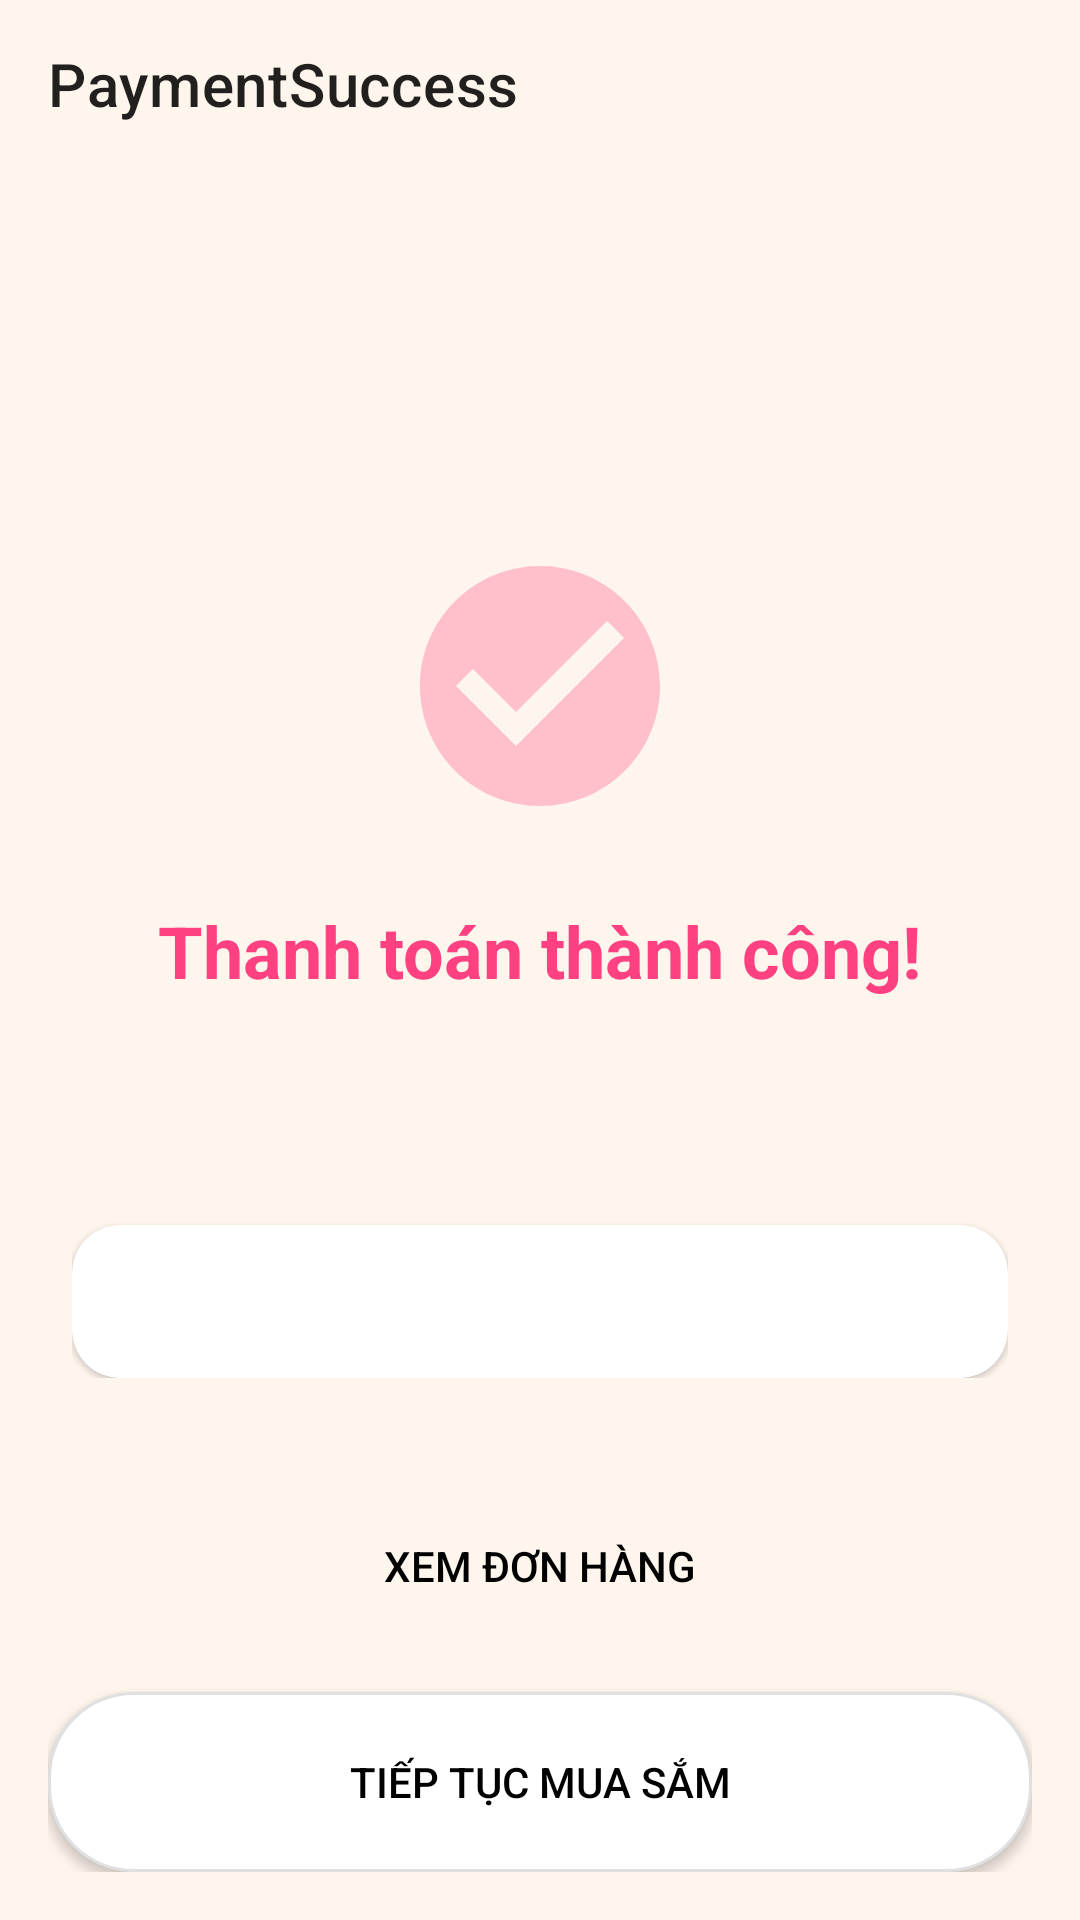

Locate icon controls on the screen. Image size 1080*1920, boxes as (x1, y1, x2, y2).
checkmark circle: (420, 566, 660, 806)
